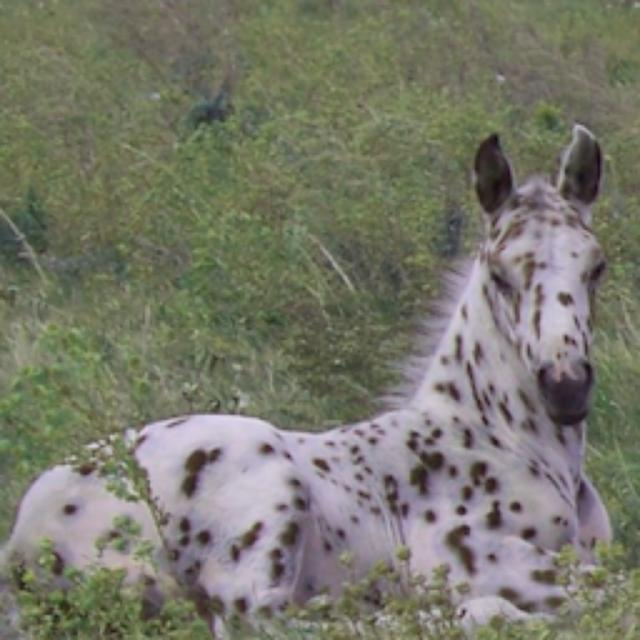Horse: (2, 118, 626, 638)
